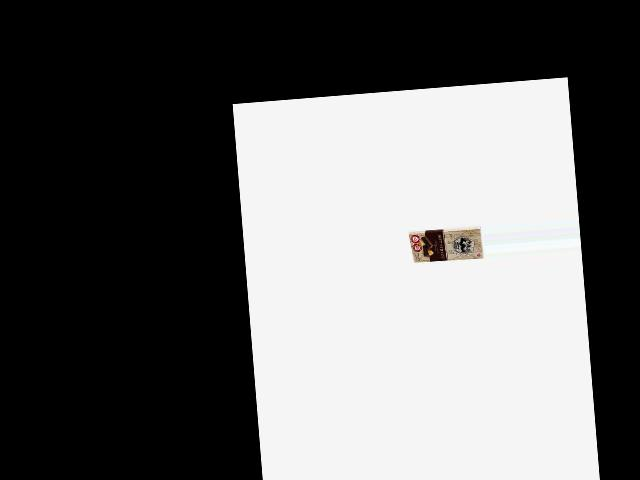chocolate: (406, 220, 483, 265)
